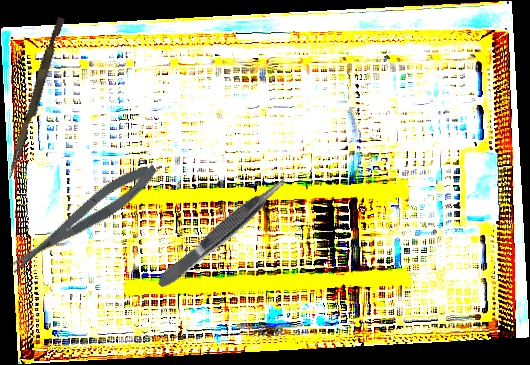Micro Scissor: (1, 156, 164, 279)
Pusher: (7, 15, 65, 181)
Tissue Forceps: (152, 170, 295, 293)
